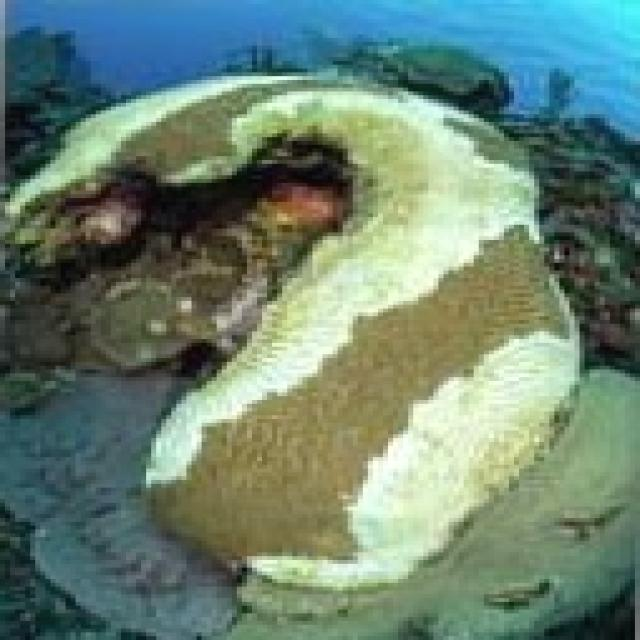Coral: (0, 75, 581, 592)
